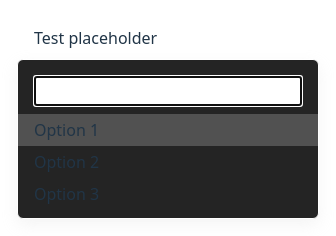
it: Select › With expanded dropdown › clicking on the select component collapses the dropdown
Click the dropdown at (167, 38), box [17,17,317,59]
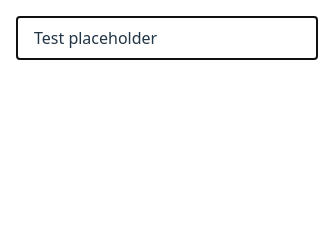
Check: the list is gone
